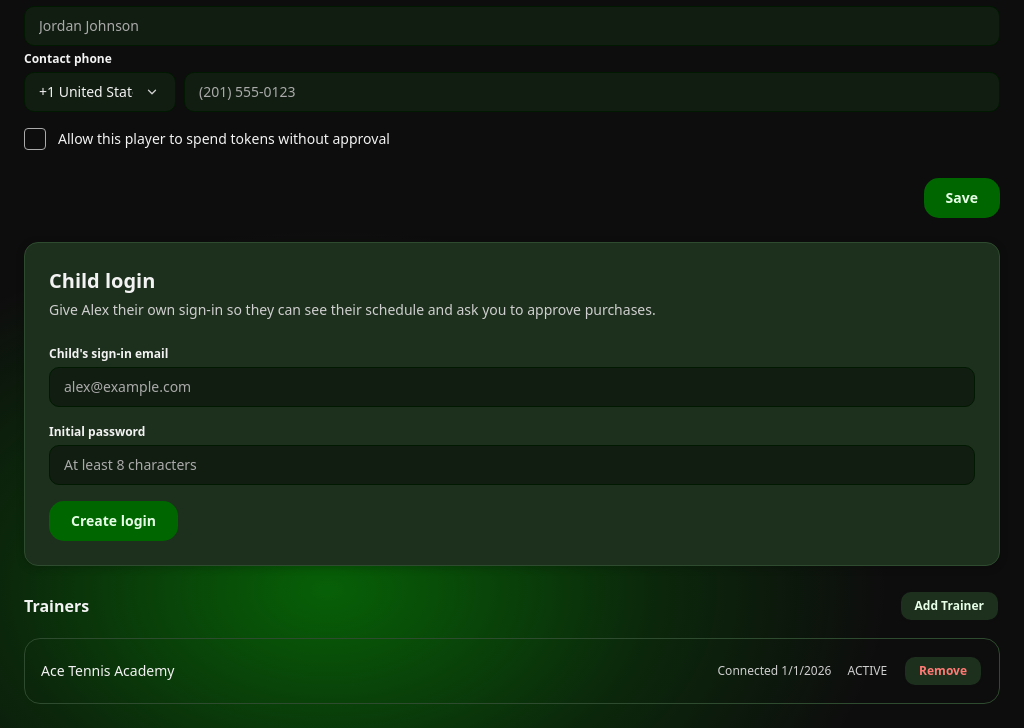
Test: ProfileDetailPage › opens RemoveTrainerConfirmModal from "Remove" and removes the trainer from the list on success
(page scrolled)
Expected: the text "Ace Tennis Academy" is shown, top-left (41, 661), bottom-right (174, 680)
Click the button "Remove". click: (943, 671)
box: top-left (903, 655), bottom-right (983, 687)
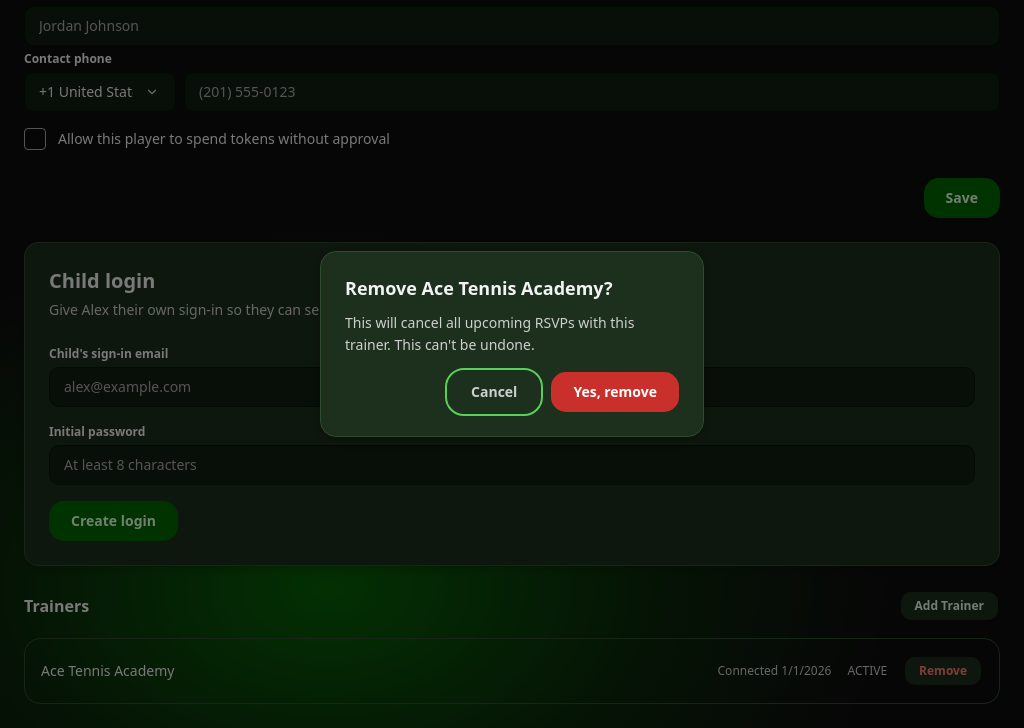
Now the text "cancel all upcoming RSVPs" is shown, box top-left (345, 313), bottom-right (634, 354)
Click the button "Yes, remove". click: (615, 392)
box: top-left (551, 372), bottom-right (679, 412)
(page scrolled)
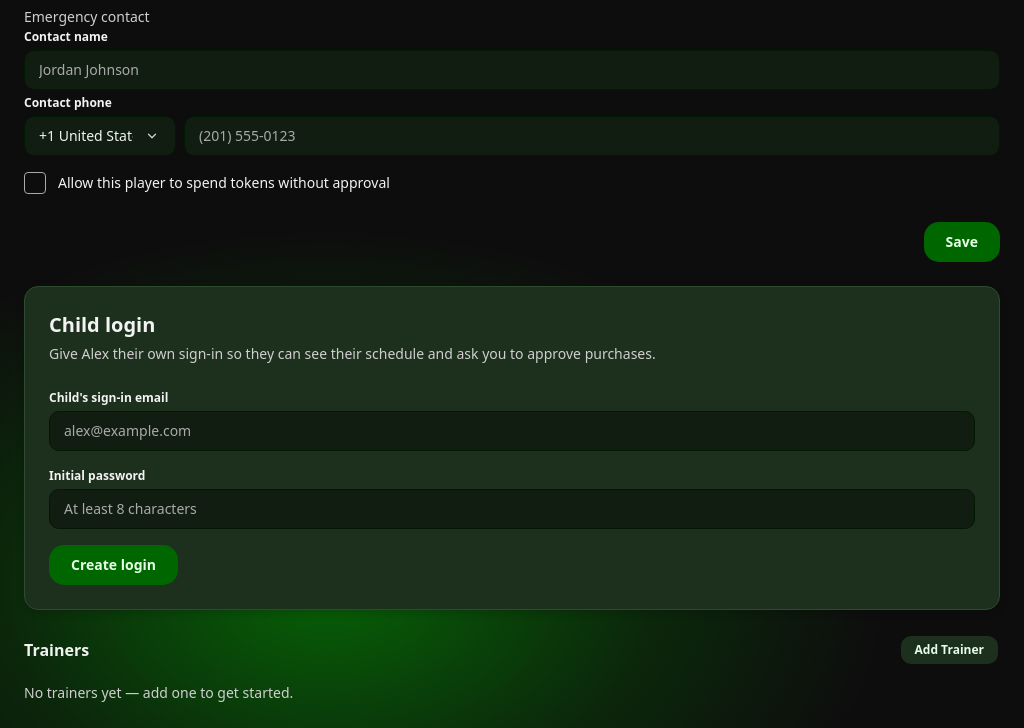
Now the text "Ace Tennis Academy" is gone
